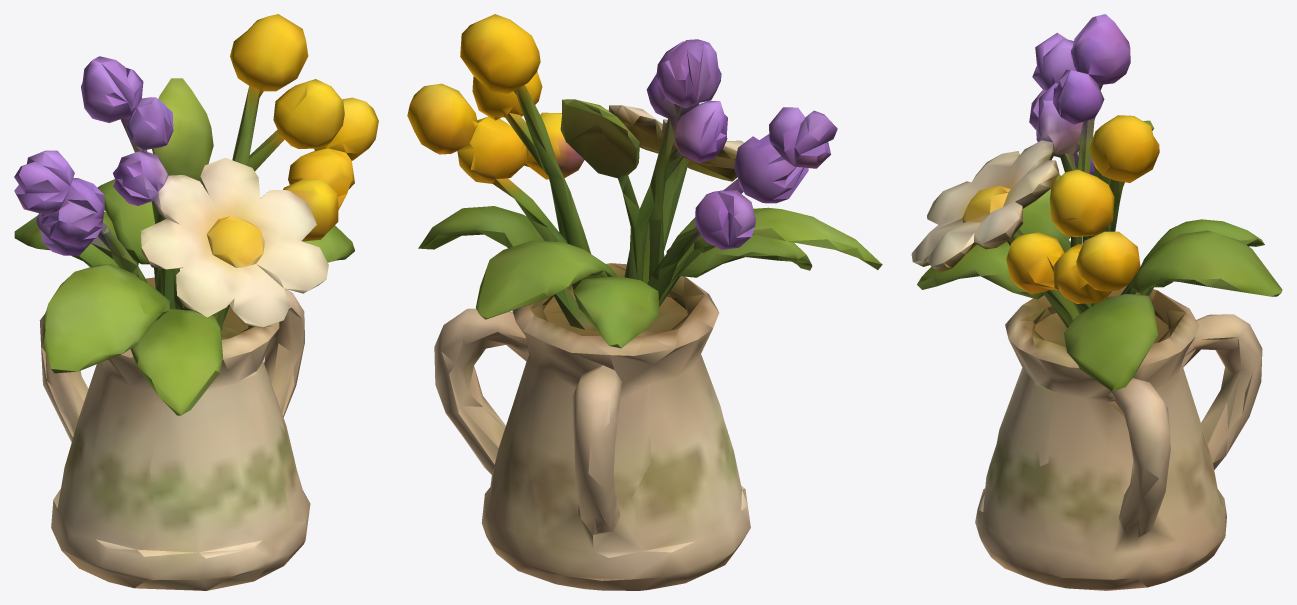
File: deco16.glb
3 renders of one model, left to right at view 1: azimuth 30°, elevation 25°; view 2: azimuth 150°, elevation 25°; view 3: azimuth 270°, elevation 25°, orthographic. The views are drawn at different scales.
Size of the model in its own units: 0.1871 by 0.2313 by 0.1593.
1 material, 1 textured.
